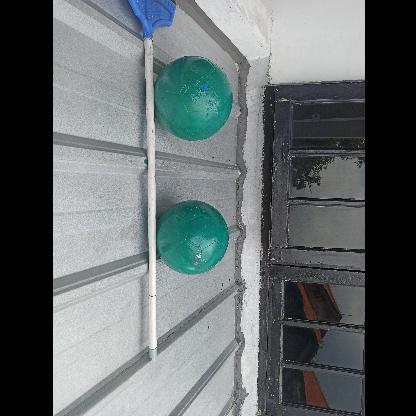green_ball: (152, 56, 235, 140), (155, 202, 229, 276)
